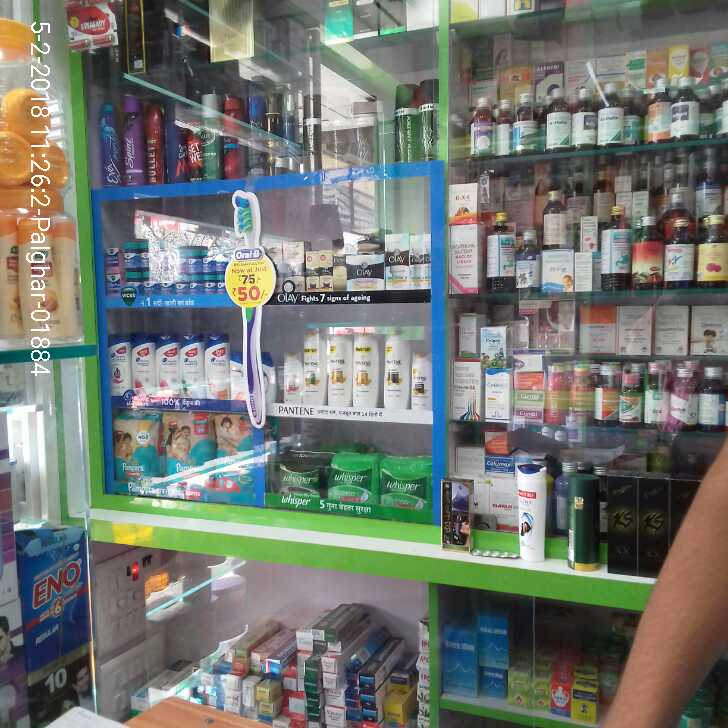vicks: (102, 239, 233, 295)
